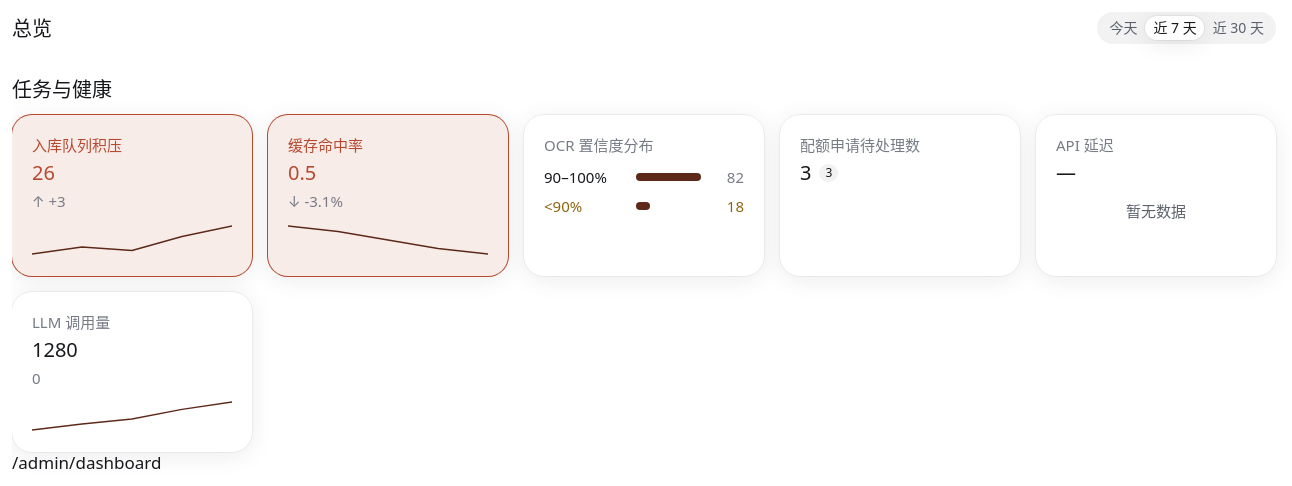
Test case: 总览 dashboard：窗口切换动效（A18） › 切换触发新请求；旧值 150ms 淡出 → 新值 250ms 错峰淡入；sparkline 400ms 形变至终态
Expected: the heading "任务与健康" is shown, [12,76,112,103]
Click the radio button labelled "近 30 天".
click(1238, 28)  # box [1205,18,1272,37]
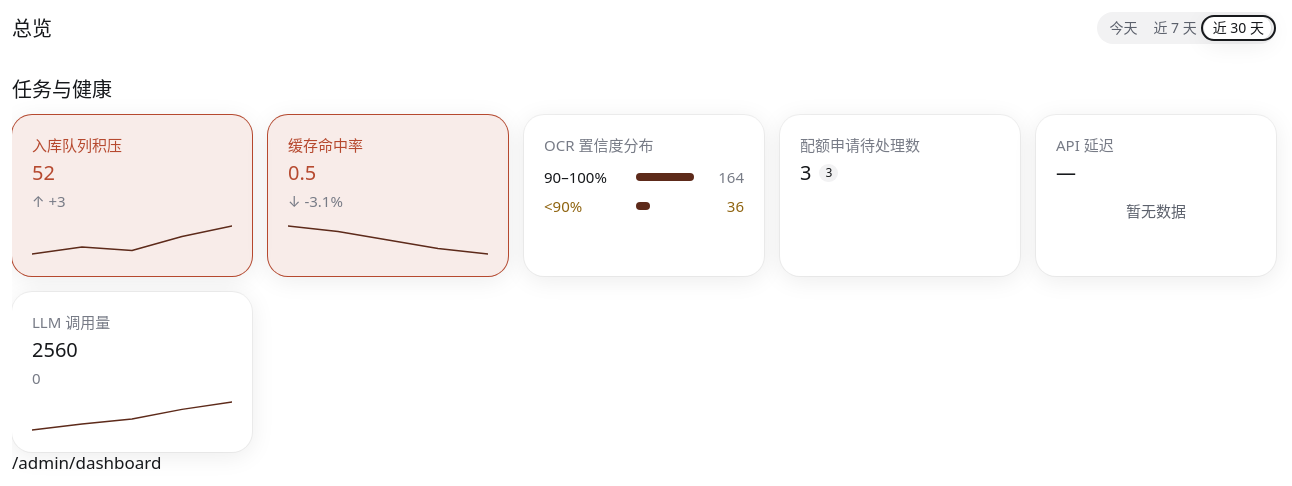
Now the text "52" is shown, box [32,159,55,186]
